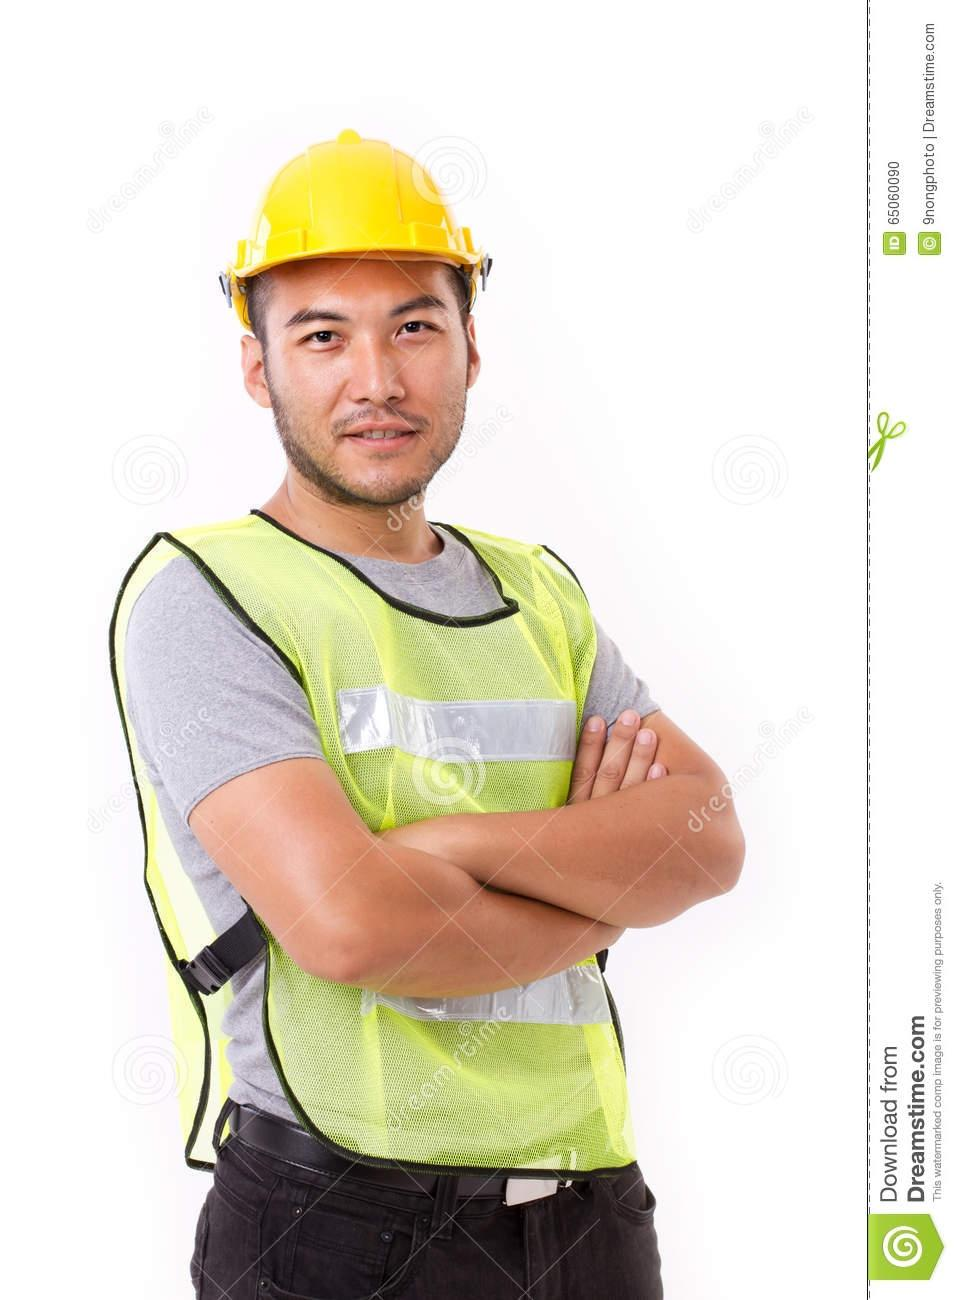helmet: (224, 122, 490, 305)
wear: (107, 519, 643, 1170)
